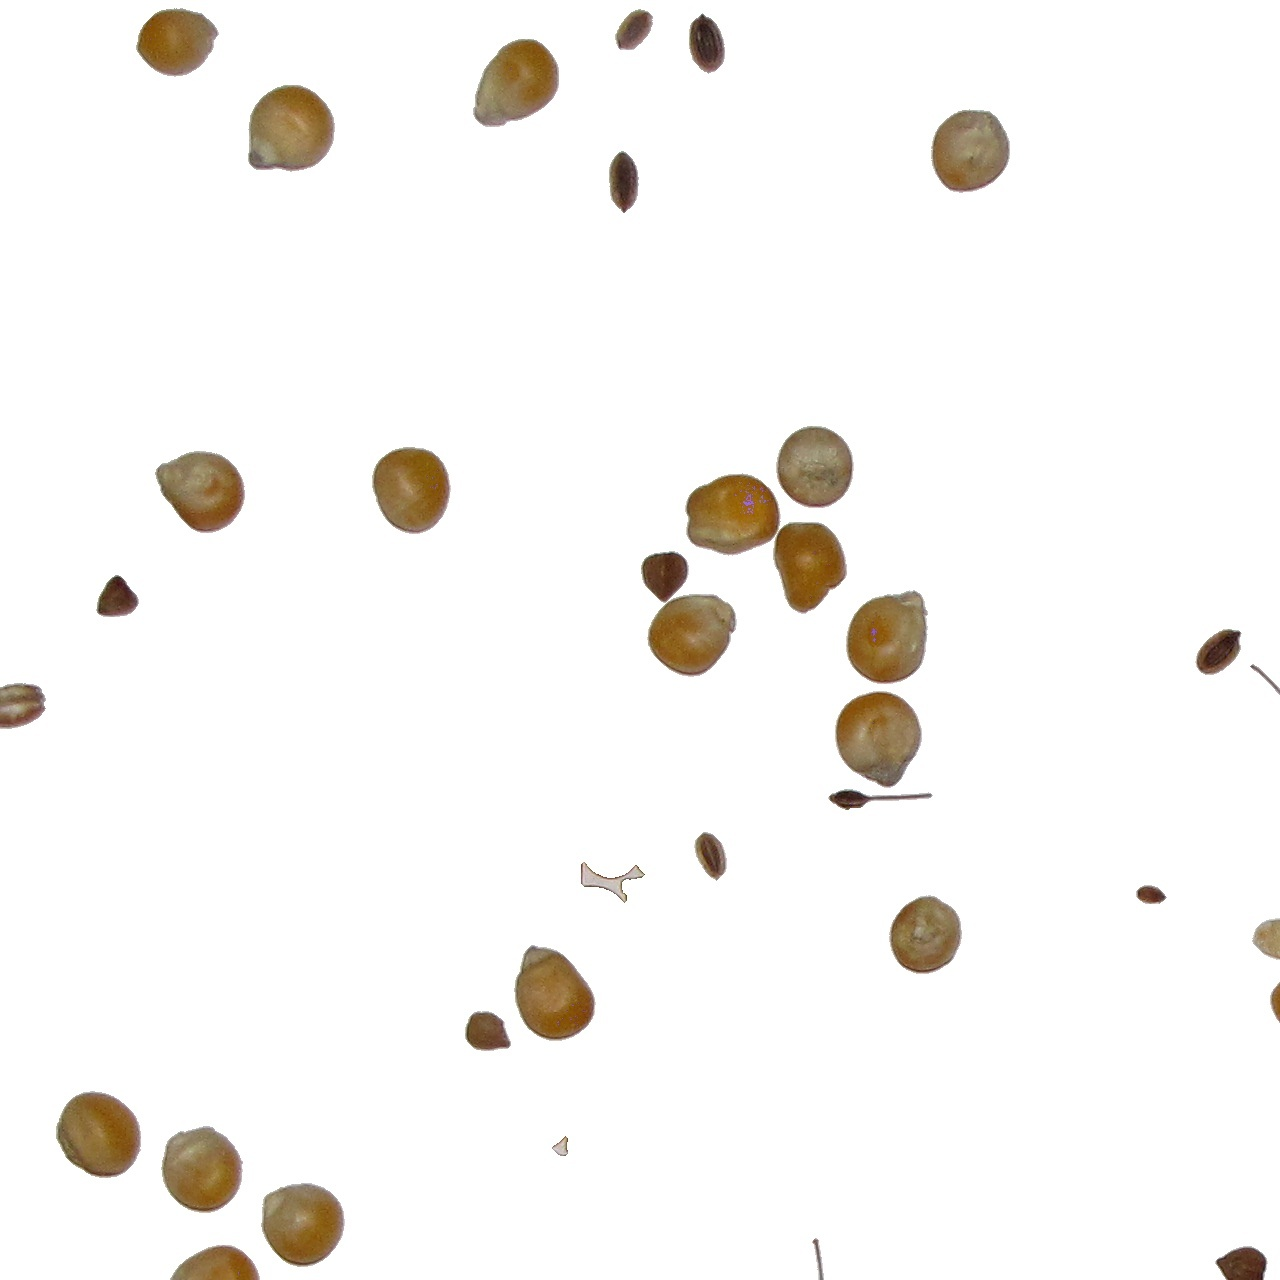buckwheat: (640, 550, 690, 604), (688, 12, 726, 75), (1194, 628, 1242, 676), (608, 150, 640, 215), (1214, 1245, 1269, 1280), (95, 574, 139, 618), (614, 5, 654, 48), (811, 1237, 828, 1280), (551, 1135, 568, 1157)
dill: (574, 862, 640, 904), (693, 831, 728, 881), (1135, 884, 1167, 905)
mais: (835, 690, 922, 789), (685, 472, 782, 557), (513, 944, 597, 1042), (845, 588, 930, 685), (247, 84, 336, 173), (472, 38, 560, 128), (154, 450, 246, 535), (646, 593, 738, 678), (55, 1090, 142, 1179), (159, 1125, 244, 1214), (260, 1182, 346, 1268), (372, 445, 452, 535), (772, 520, 847, 615), (930, 108, 1012, 195), (775, 425, 855, 509), (135, 7, 220, 79), (888, 894, 964, 975), (161, 1244, 263, 1280), (1269, 964, 1280, 1049)
other: (828, 788, 934, 811), (464, 1010, 512, 1051), (1251, 917, 1280, 964), (1250, 663, 1280, 697)
